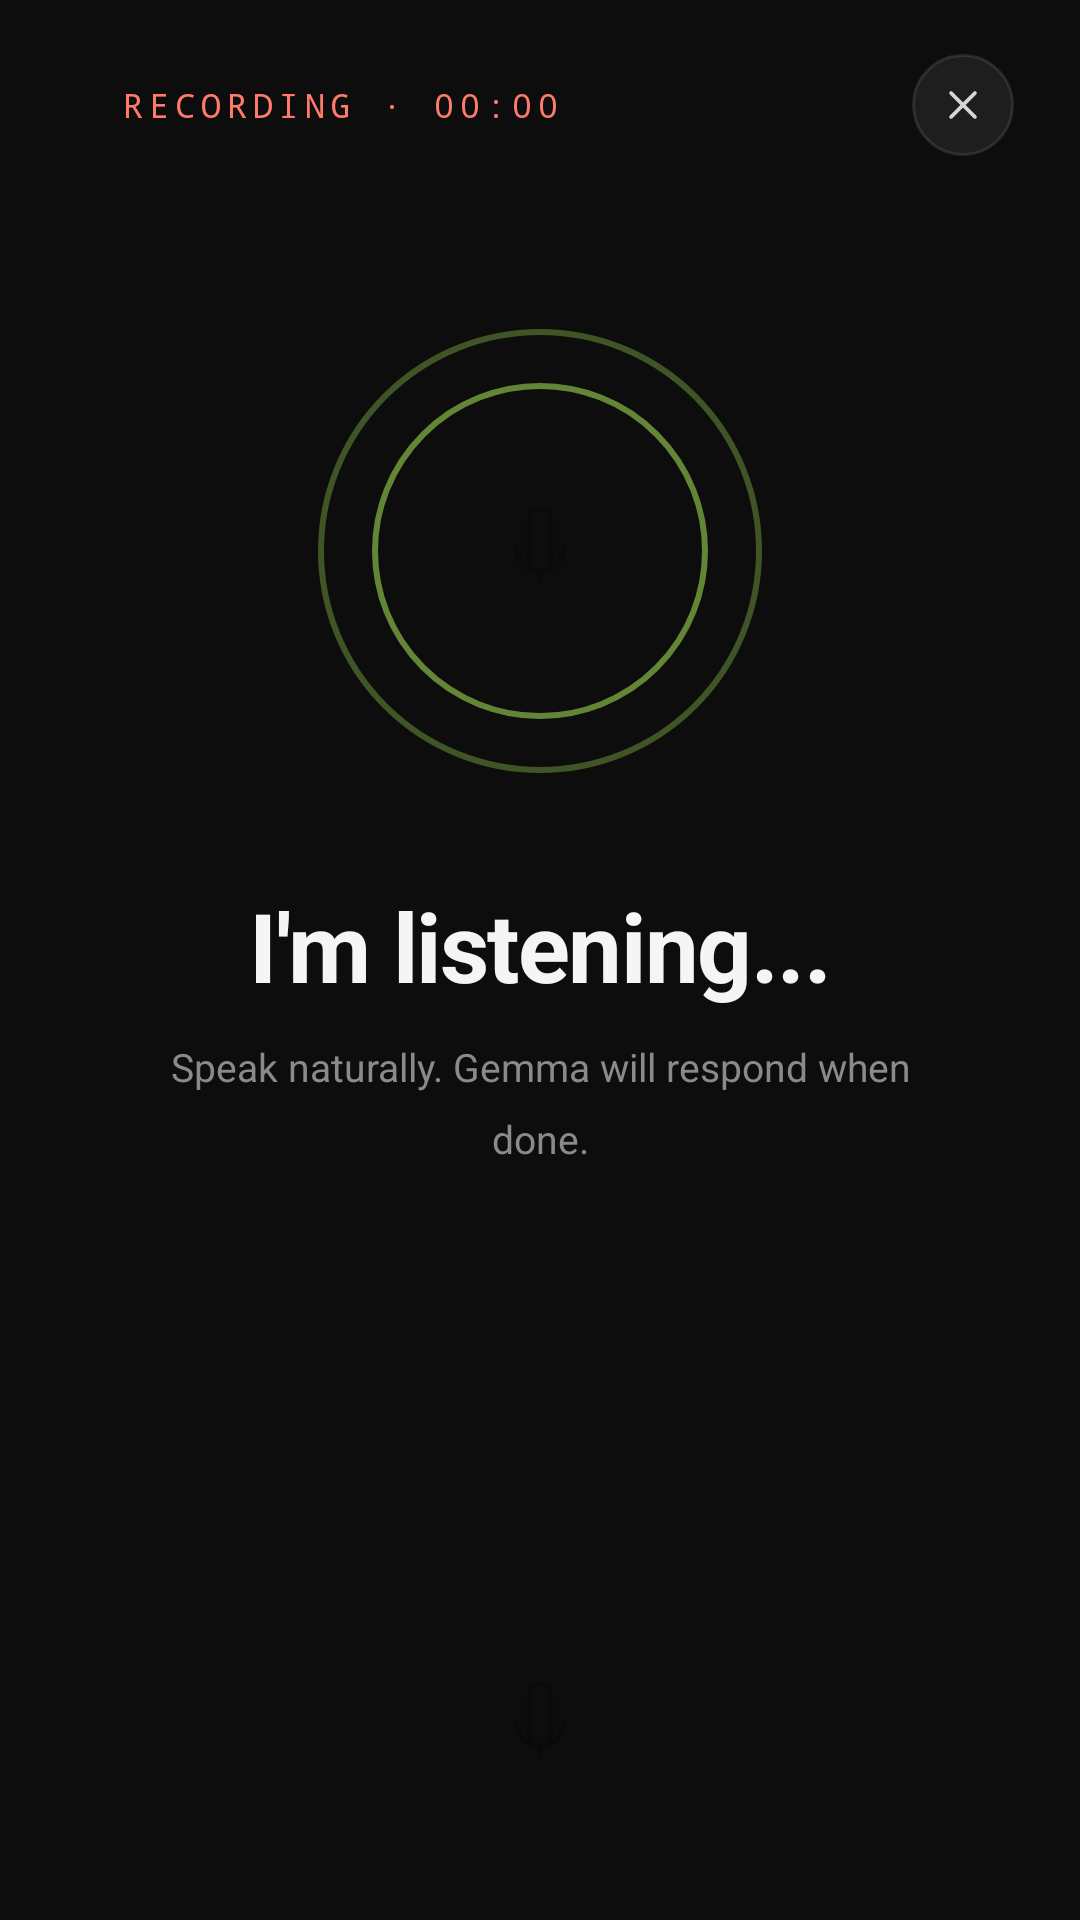

Where to tap for icons on this 1080 × 1920 app screen, as (x,y):
Close: (963,105)
